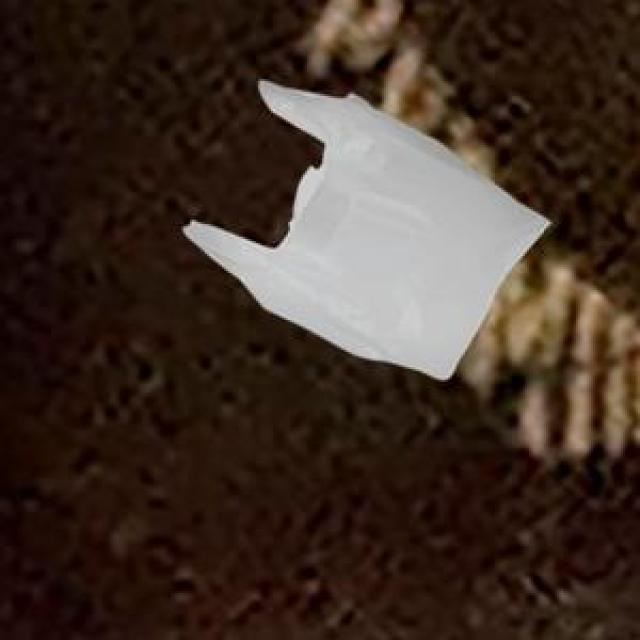plastic: (185, 60, 562, 398)
